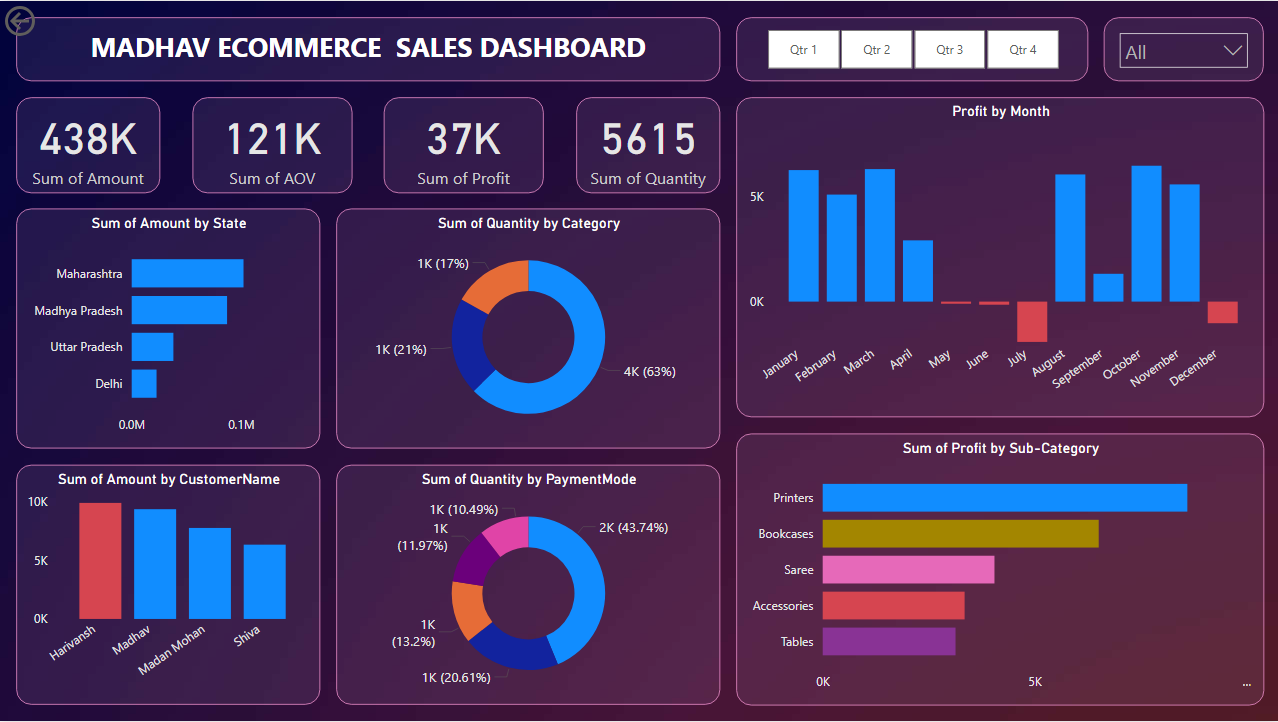

What the dashboard file says about the page in this screenshot:
{"tool":"powerbi","page":{"name":"Page 1","canvas":[1280,720],"ordinal":0},"visuals":[{"type":"textbox","box":[16,16,704,64],"z":0},{"type":"clusteredColumnChart","title":"Profit by Month","fields":{"Category":["Orders.Order Date.Variation.Date Hierarchy.Month"],"Y":["Sum(Details.Profit)"]},"box":[736,96,528,320],"z":1000},{"type":"barChart","fields":{"Category":["Details.Sub-Category"],"Y":["Sum(Details.Profit)"]},"box":[736,432,528,272],"z":2000},{"type":"donutChart","fields":{"Category":["Details.Category"],"Y":["Sum(Details.Quantity)"]},"box":[336,208,384,240],"z":3000},{"type":"donutChart","fields":{"Y":["Sum(Details.Quantity)"],"Category":["Details.PaymentMode"]},"box":[336,464,384,240],"z":4000},{"type":"card","fields":{"Values":["Sum(Details.Amount)"]},"box":[16,96,144,96],"z":5000},{"type":"actionButton","box":[0,0,100,40],"z":6000},{"type":"card","fields":{"Values":["Sum(Details.Quantity)"]},"box":[576,96,144,96],"z":7000},{"type":"card","fields":{"Values":["Sum(Details.Profit)"]},"box":[384,96,160,96],"z":8000},{"type":"card","fields":{"Values":["Sum(Details.AOV)"]},"box":[192,96,160,96],"z":9000},{"type":"barChart","fields":{"Category":["Orders.State"],"Y":["Sum(Details.Amount)"]},"box":[16,208,304,240],"z":10000},{"type":"columnChart","fields":{"Y":["Sum(Details.Amount)"],"Category":["Orders.CustomerName"]},"box":[16,464,304,240],"z":11000},{"type":"slicer","fields":{"Values":["Orders.Order Date.Variation.Date Hierarchy.Quarter"]},"box":[736,16,352,64],"z":12000},{"type":"slicer","fields":{"Values":["Orders.State"]},"box":[1104,16,160,64],"z":13000}]}

Visuals, with their boxes in screenshot pixels (x1, y1, x2, y2), scaled from the page's 1280x720 canvas onto the 1278x722 screenshot:
textbox: 16,16,719,80
"Profit by Month" clusteredColumnChart: 735,96,1262,417
barChart - Details.Sub-Category x Sum(Details.Profit): 735,433,1262,706
donutChart - Details.Category x Sum(Details.Quantity): 335,209,719,449
donutChart - Sum(Details.Quantity) x Details.PaymentMode: 335,465,719,706
card - Sum(Details.Amount): 16,96,160,193
actionButton: 0,0,100,40
card - Sum(Details.Quantity): 575,96,719,193
card - Sum(Details.Profit): 383,96,543,193
card - Sum(Details.AOV): 192,96,351,193
barChart - Orders.State x Sum(Details.Amount): 16,209,320,449
columnChart - Sum(Details.Amount) x Orders.CustomerName: 16,465,320,706
slicer - Orders.Order Date.Variation.Date Hierarchy.Quarter: 735,16,1086,80
slicer - Orders.State: 1102,16,1262,80
